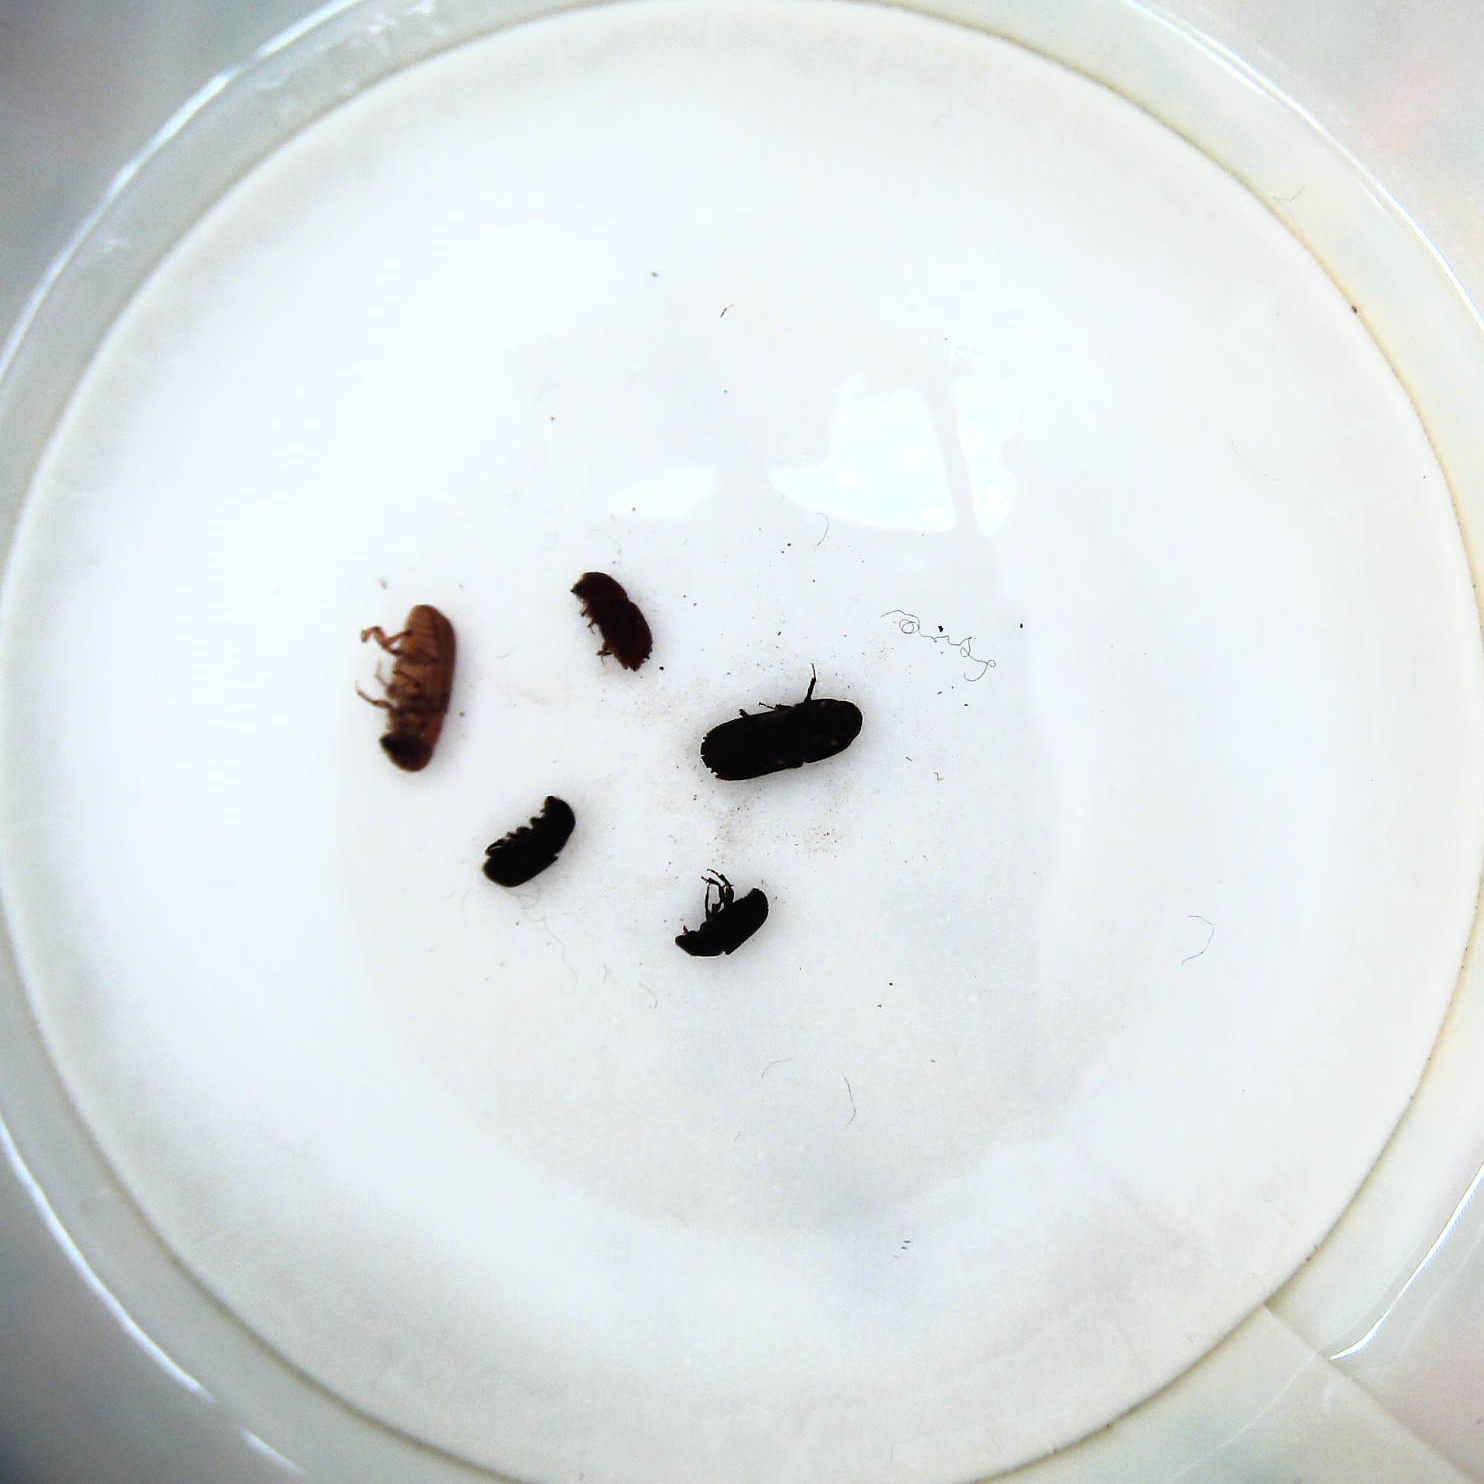Boerner: (699, 677, 864, 784)
Leconte: (356, 601, 461, 777)
armandi: (481, 794, 578, 891)
coleoptera: (673, 866, 771, 962)
linnaeus: (565, 572, 656, 677)
